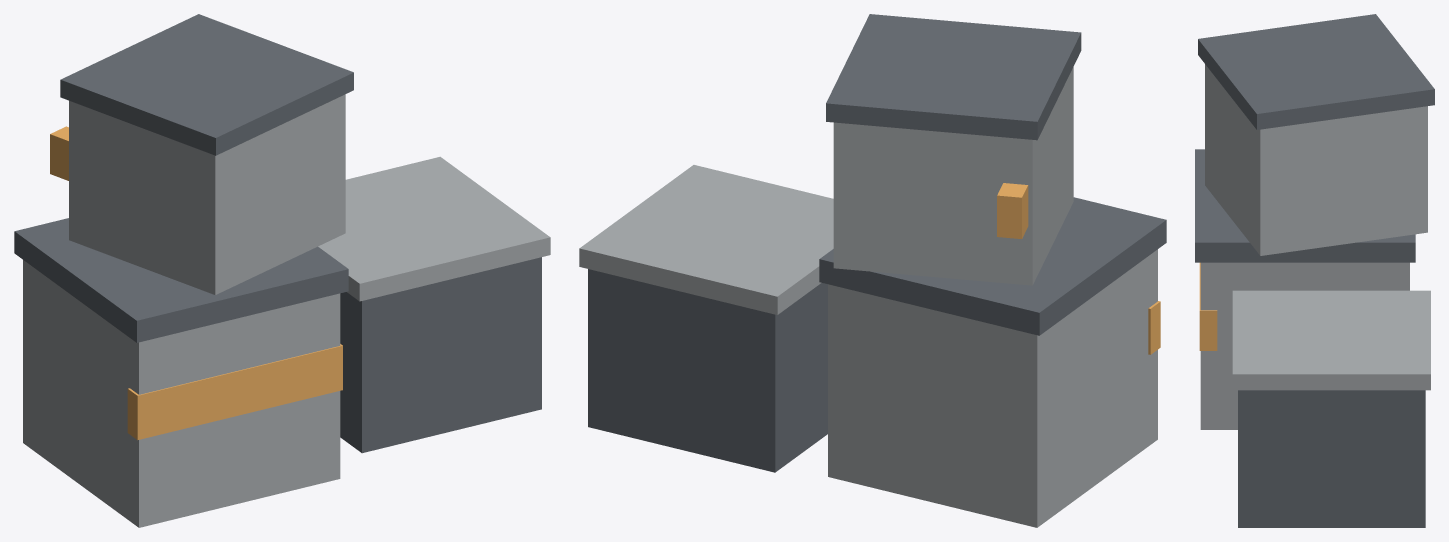
The model's file is TC_ENV_SupplyCrateStack_V1.glb.
3 views of the same model, side by side, from view 1: azimuth 30°, elevation 25°; view 2: azimuth 150°, elevation 25°; view 3: azimuth 270°, elevation 25° (orthographic). The views are drawn at different scales.
Parts seen in each view (by area): view 1: TC_ENV_SupplyCrateStack_V1; view 2: TC_ENV_SupplyCrateStack_V1; view 3: TC_ENV_SupplyCrateStack_V1.
Part boxes in pixels (<box>): TC_ENV_SupplyCrateStack_V1: <box>14,14,550,527</box>; TC_ENV_SupplyCrateStack_V1: <box>579,14,1166,527</box>; TC_ENV_SupplyCrateStack_V1: <box>1195,14,1434,527</box>.
Size of the model in its own units: 2.05 by 1.68 by 1.09.
